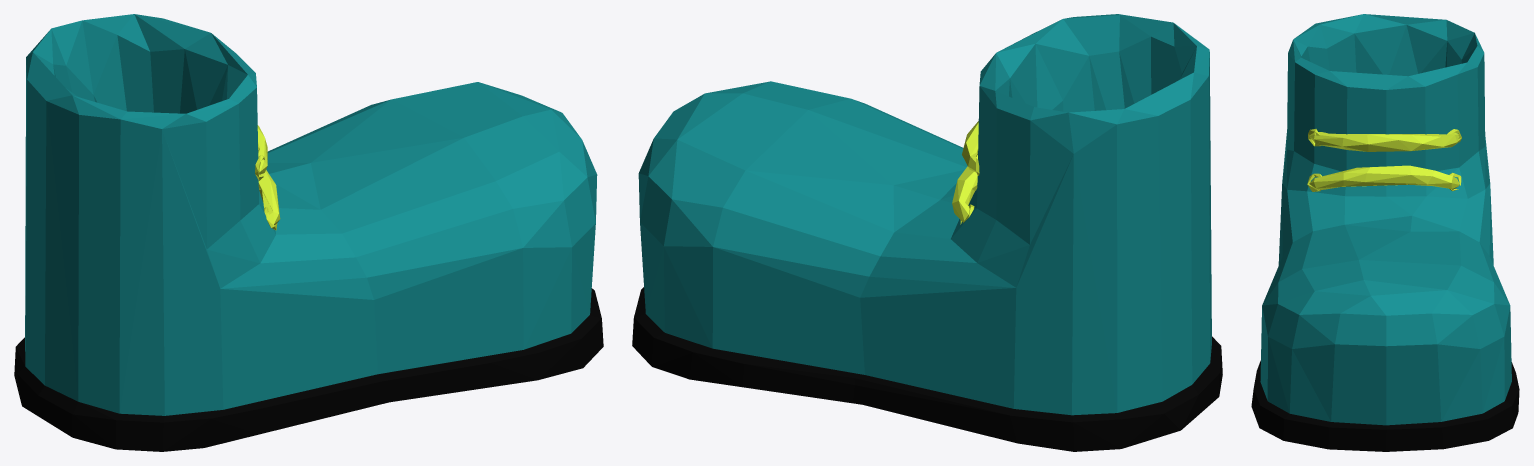
File: shoe_blue.fbx
3 views of the same model, side by side, from view 1: azimuth 30°, elevation 25°; view 2: azimuth 150°, elevation 25°; view 3: azimuth 270°, elevation 25° (orthographic). The views are drawn at different scales.
Visible parts, largest first — view 1: shoe.003; view 2: shoe.003; view 3: shoe.003.
Part boxes in pixels (x1,y1,x2,y2): shoe.003: [14, 14, 603, 451]; shoe.003: [632, 14, 1222, 451]; shoe.003: [1251, 14, 1519, 451].
Bounding box in the file's own units: 80.08 × 47.23 × 45.7.
